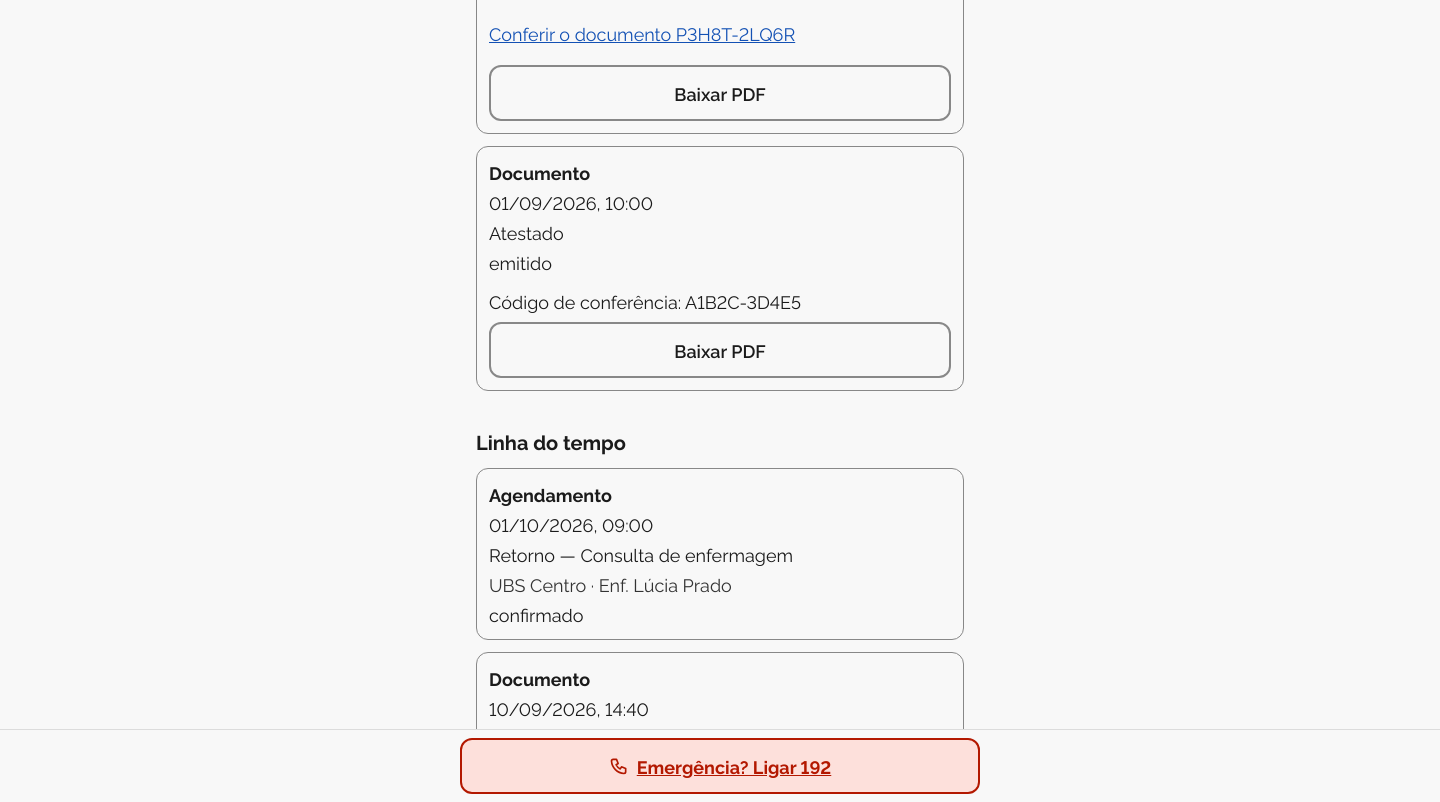
Scenario: MyHistoryStep › erro do download: no cartão do próprio documento, não em outro
(page scrolled)
Click the button with aria-label "Baixar PDF de Atestado" at (720, 350), box [489,322,951,378]
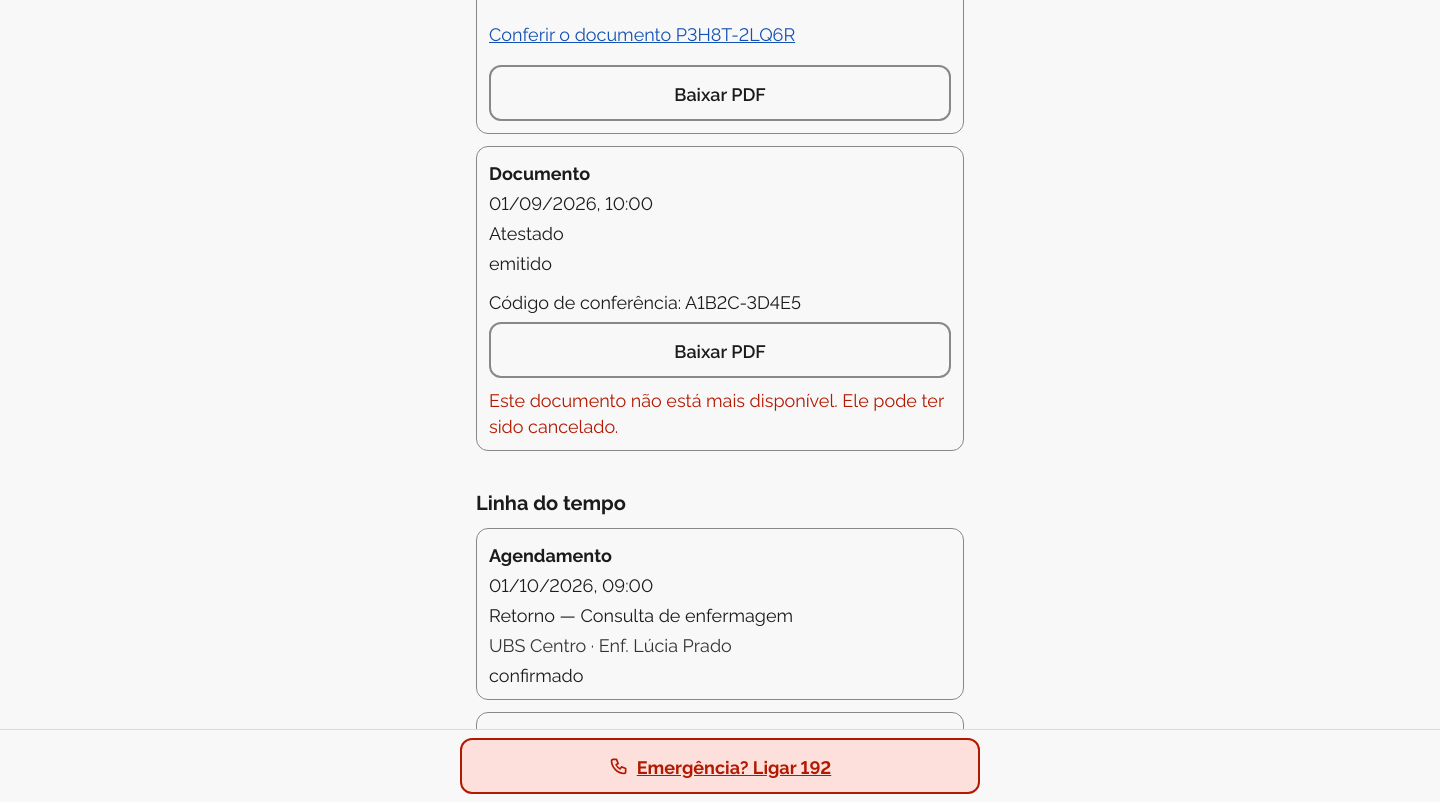
Check: the message reads "Este documento não está mais disponível. Ele pode ter sido cancelado.", box [489,386,944,437]
